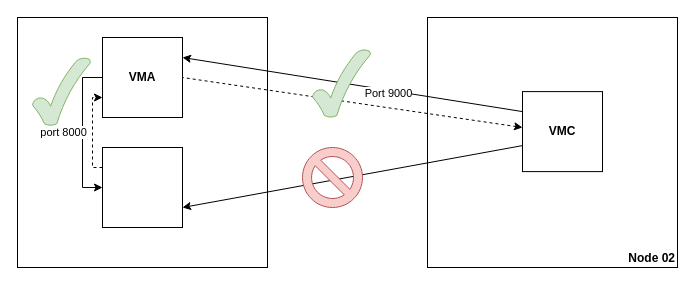
Some shapes in this 695 by 285 pixel diagram are drawn without their labels. Here are the shapes that lost their labels. From the top down, the box of each, then its label:
(16, 16, 268, 268): Node 01
(102, 146, 182, 228): VMB
